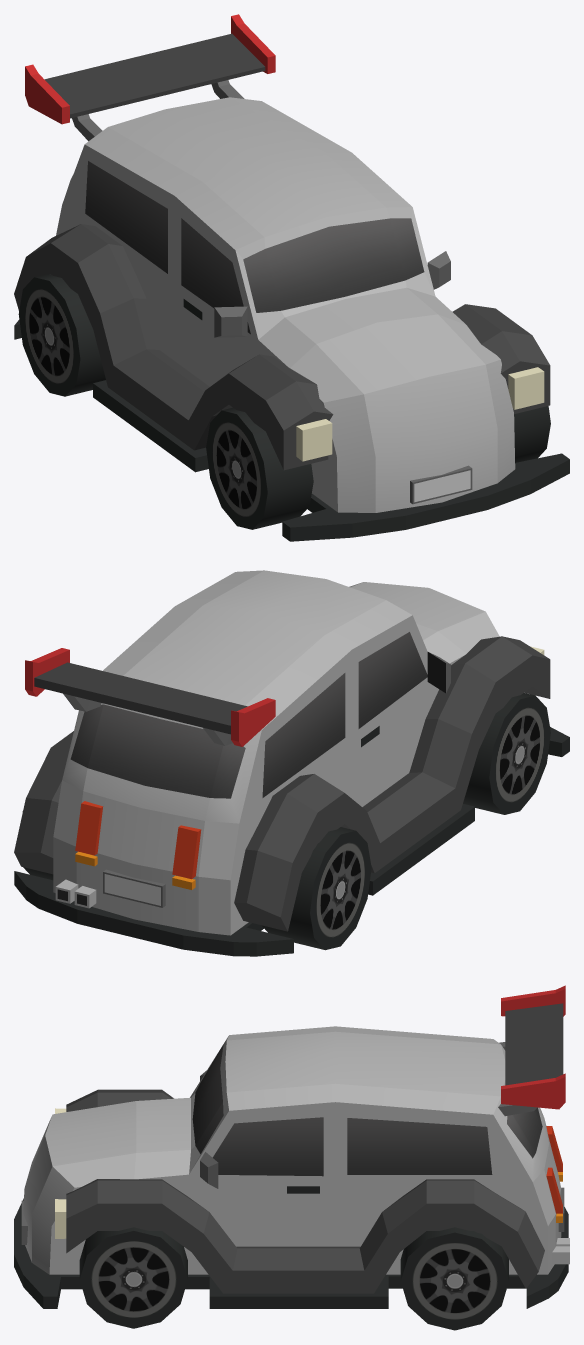
File: RaceCarD.fbx
3 renders of one model, top to bottom at view 1: azimuth 30°, elevation 25°; view 2: azimuth 150°, elevation 25°; view 3: azimuth 270°, elevation 25°, orthographic. The views are drawn at different scales.
Parts seen in each view (by area): view 1: RaceCarD, TireFR, TireBR, TireFL; view 2: RaceCarD, TireBR, TireFR; view 3: RaceCarD, TireFL, TireBL.
Part boxes in pixels (bbox=[...]): RaceCarD: bbox=[14, 14, 569, 541]; TireFR: bbox=[206, 407, 313, 529]; TireBR: bbox=[18, 274, 105, 396]; TireFL: bbox=[514, 406, 550, 462]; RaceCarD: bbox=[14, 570, 569, 956]; TireBR: bbox=[261, 827, 371, 950]; TireFR: bbox=[463, 693, 550, 814]; RaceCarD: bbox=[14, 985, 569, 1308]; TireFL: bbox=[79, 1227, 187, 1328]; TireBL: bbox=[400, 1227, 508, 1330].
Size of the model in its own units: 236 by 209 by 445.
